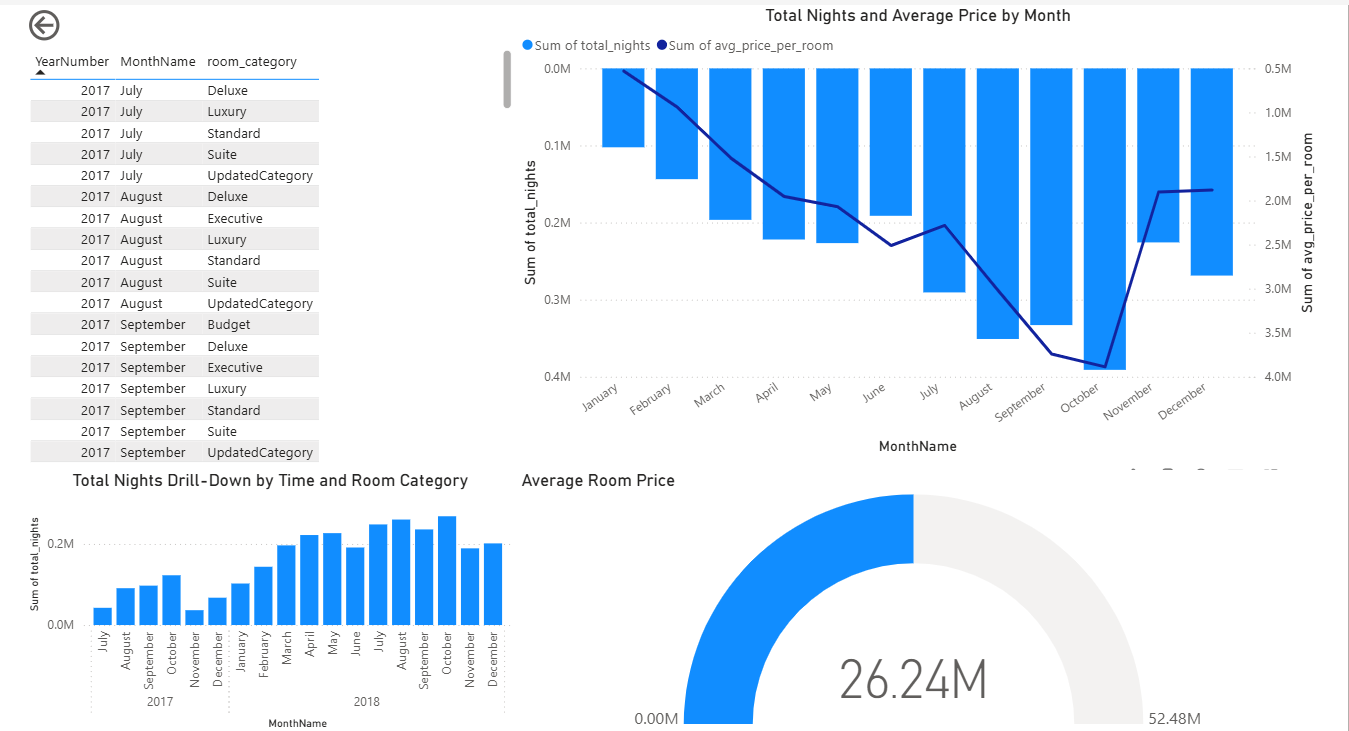

What the dashboard file says about the page in this screenshot:
{"tool":"powerbi","page":{"name":"Reservation Analysis (Drill-Down)","canvas":[1280,720],"ordinal":1},"visuals":[{"type":"clusteredColumnChart","title":"Total Nights Drill-Down by Time and Room Category","fields":{"Category":["DimDate.YearNumber","DimDate.MonthName"],"Y":["Sum(FactHotelReservation.total_nights)"]},"box":[0,458.9,486.7,261.1],"z":0},{"type":"tableEx","fields":{"Values":["DimDate.Date Room Hierarchy.YearNumber","DimDate.Date Room Hierarchy.MonthName","DimRoom.room_category"]},"box":[0,40,486.7,418.9],"z":1000},{"type":"lineClusteredColumnComboChart","title":"Total Nights and Average Price by Month","fields":{"Category":["DimDate.MonthName"],"Y":["Sum(FactHotelReservation.total_nights)"],"Y2":["Sum(FactHotelReservation.avg_price_per_room)"]},"box":[486.7,0,793.3,448.9],"z":2000},{"type":"actionButton","box":[0,0,100,40],"z":3000},{"type":"gauge","title":"Average Room Price","fields":{"Y":["Sum(FactHotelReservation.avg_price_per_room)"]},"box":[486.7,458.9,793.3,261.1],"z":4000}]}

Visuals, with their boxes on the page's 1280x720 design canvas (x1, y1, x2, y2). These are canvas units, not pixel positions in the 1349x731 screenshot, which may show the page scaled, cropped or inside an application window:
"Total Nights Drill-Down by Time and Room Category" clusteredColumnChart: box=[0, 459, 487, 720]
tableEx - DimDate.Date Room Hierarchy.YearNumber x DimDate.Date Room Hierarchy.MonthName: box=[0, 40, 487, 459]
"Total Nights and Average Price by Month" lineClusteredColumnComboChart: box=[487, 0, 1280, 449]
actionButton: box=[0, 0, 100, 40]
"Average Room Price" gauge: box=[487, 459, 1280, 720]
